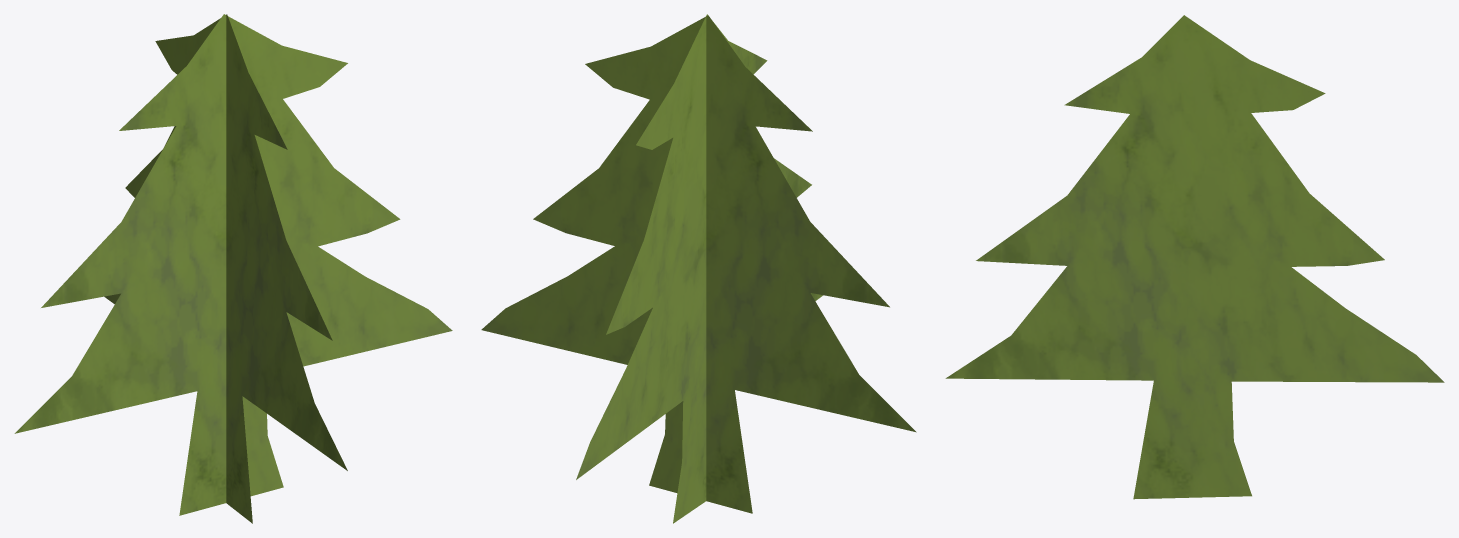
The model's file is baum1.fbx.
The picture shows the model from 3 angles, left to right: view 1: azimuth 30°, elevation 25°; view 2: azimuth 150°, elevation 25°; view 3: azimuth 270°, elevation 25°; orthographic projection.
Visible parts, largest first — view 1: Cube.001; view 2: Cube.001; view 3: Cube.001.
Part boxes in pixels (<box>): Cube.001: <box>14,14,452,523</box>; Cube.001: <box>481,14,916,523</box>; Cube.001: <box>945,15,1444,499</box>.
Bounding box in the file's own units: 524 × 560 × 524.
1 material, 1 textured.
